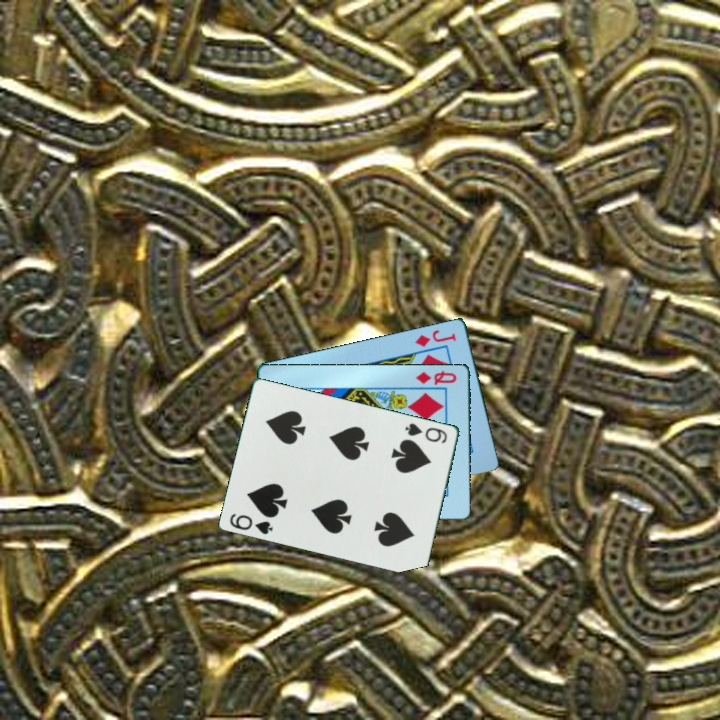6s: (226, 509, 276, 537), (402, 419, 450, 446)
Jd: (411, 326, 459, 349)
Qd: (413, 367, 460, 387)
